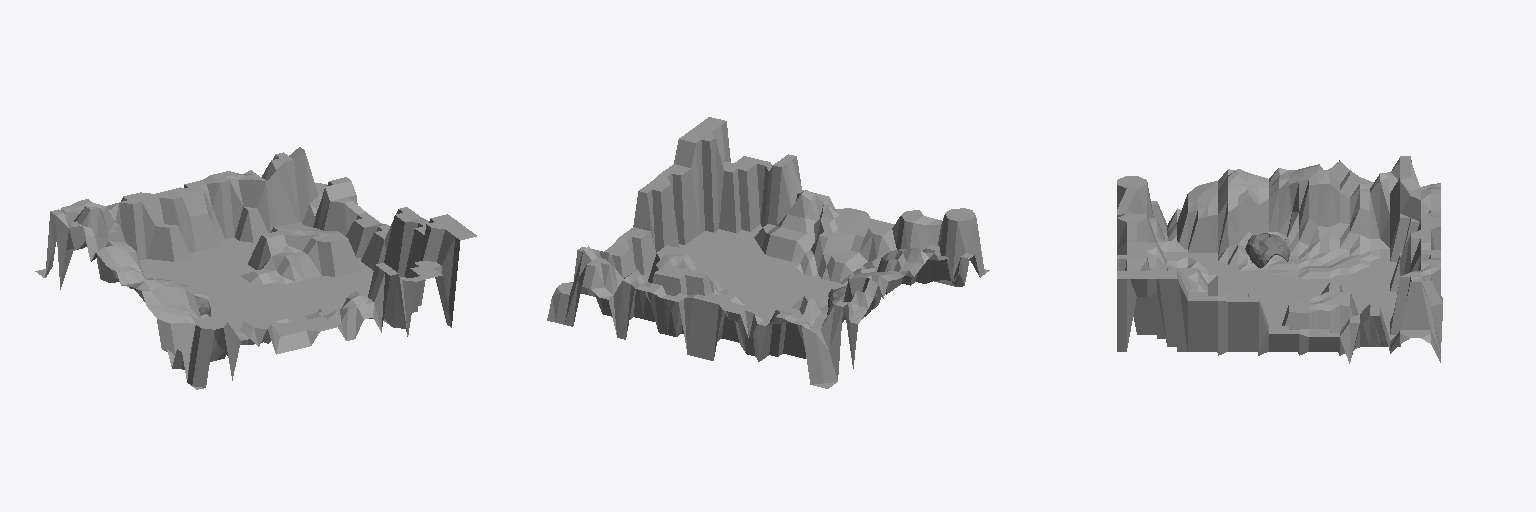
File: map.obj
The picture shows the model from 3 angles: view 1: azimuth 30°, elevation 25°; view 2: azimuth 150°, elevation 25°; view 3: azimuth 270°, elevation 25°; orthographic projection.
Parts seen in each view (by area): view 1: Plane; view 2: Plane; view 3: Plane.
Boxes of the visible parts, <box> form: Plane: <box>35,147,476,389</box>; Plane: <box>547,117,989,388</box>; Plane: <box>1117,156,1442,363</box>.
Bounding box in the file's own units: 240 × 73.69 × 241.